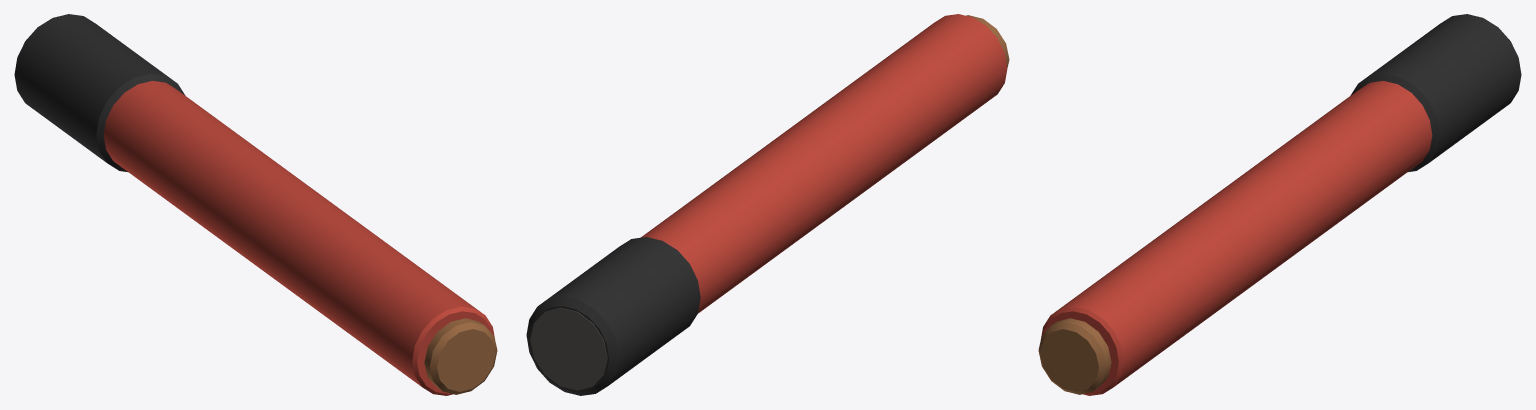
File: hand_flare.glb
3 renders of one model, left to right at view 1: azimuth 30°, elevation 25°; view 2: azimuth 150°, elevation 25°; view 3: azimuth 330°, elevation 25°, orthographic.
Visible parts, largest first — view 1: body; view 2: body; view 3: body.
Boxes of the visible parts, x1=… form: body: x1=14, y1=14, x2=497, y2=395; body: x1=526, y1=14, x2=1009, y2=395; body: x1=1038, y1=14, x2=1521, y2=395.
Size of the model in its own units: 0.03 by 0.0295 by 0.2302.
